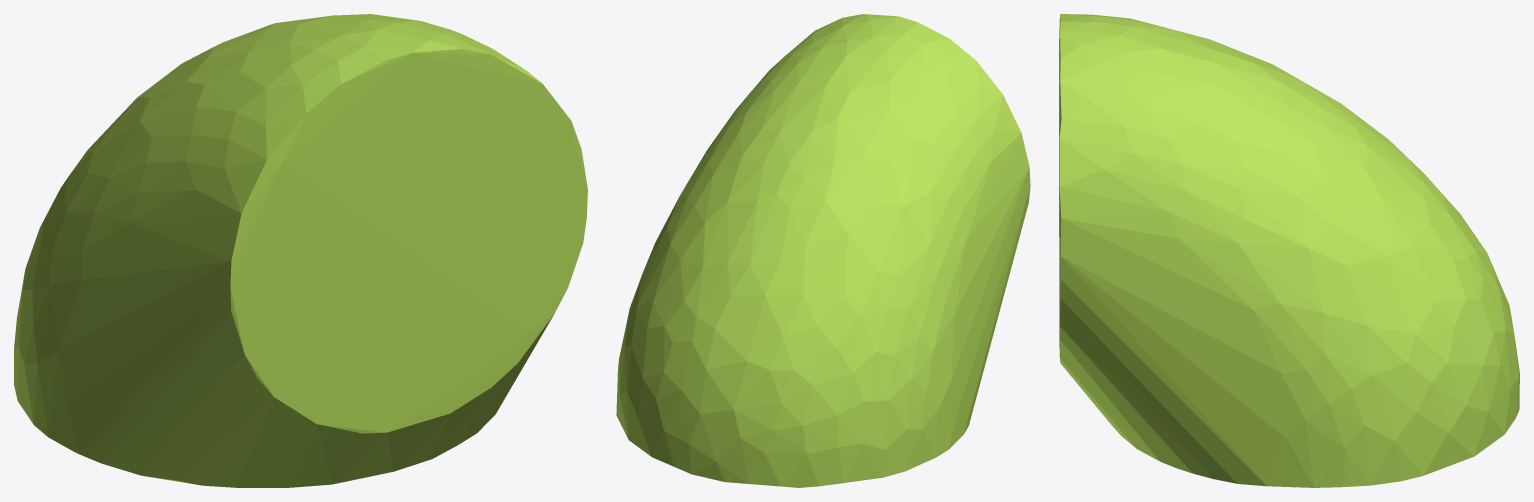
Rendered from ur3_link_3_coll_5.dae.
3 views of the same model, side by side, from view 1: azimuth 30°, elevation 25°; view 2: azimuth 150°, elevation 25°; view 3: azimuth 270°, elevation 25° (orthographic). The views are drawn at different scales.
Parts seen in each view (by area): view 1: Node_000002223FC9A990; view 2: Node_000002223FC9A990; view 3: Node_000002223FC9A990.
Part boxes in pixels (x1,y1,x2,y2): Node_000002223FC9A990: (14, 14, 587, 487); Node_000002223FC9A990: (616, 14, 1030, 487); Node_000002223FC9A990: (1059, 14, 1519, 487).
Bounding box in the file's own units: 0.075 × 0.074 × 0.083.
